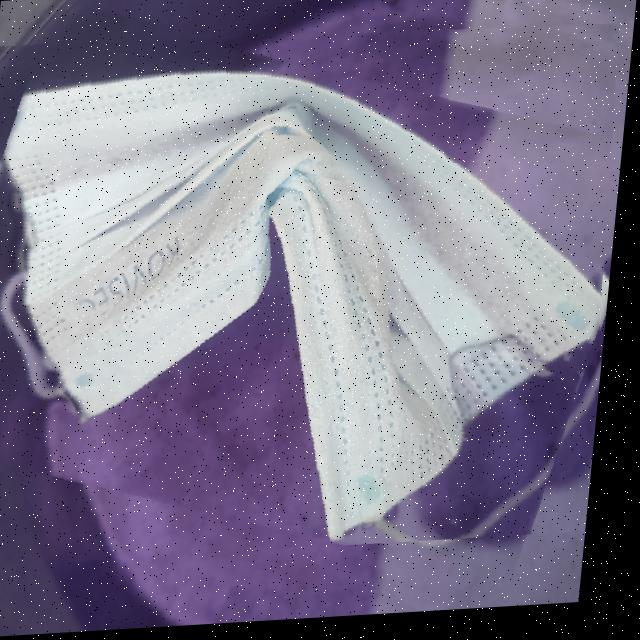litter: (0, 15, 637, 568)
